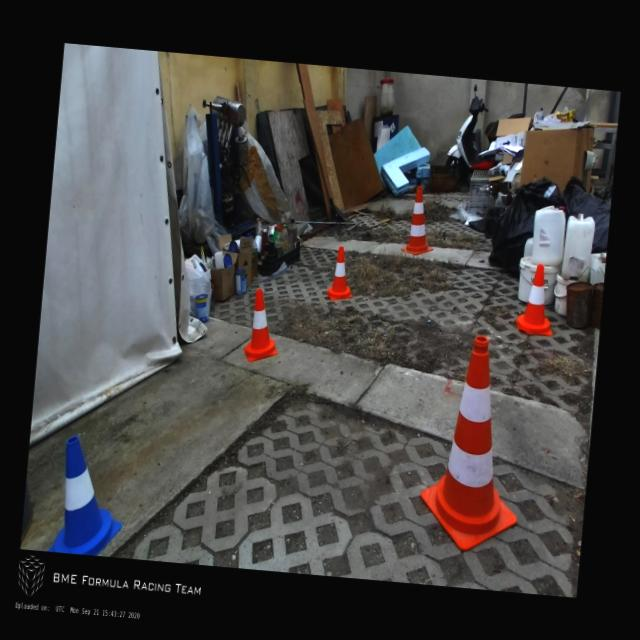blue_cone: (49, 435, 130, 557)
large_orange_cone: (416, 334, 532, 554), (400, 184, 438, 256)
orange_cone: (514, 264, 556, 336), (242, 288, 282, 362), (324, 244, 354, 302)
